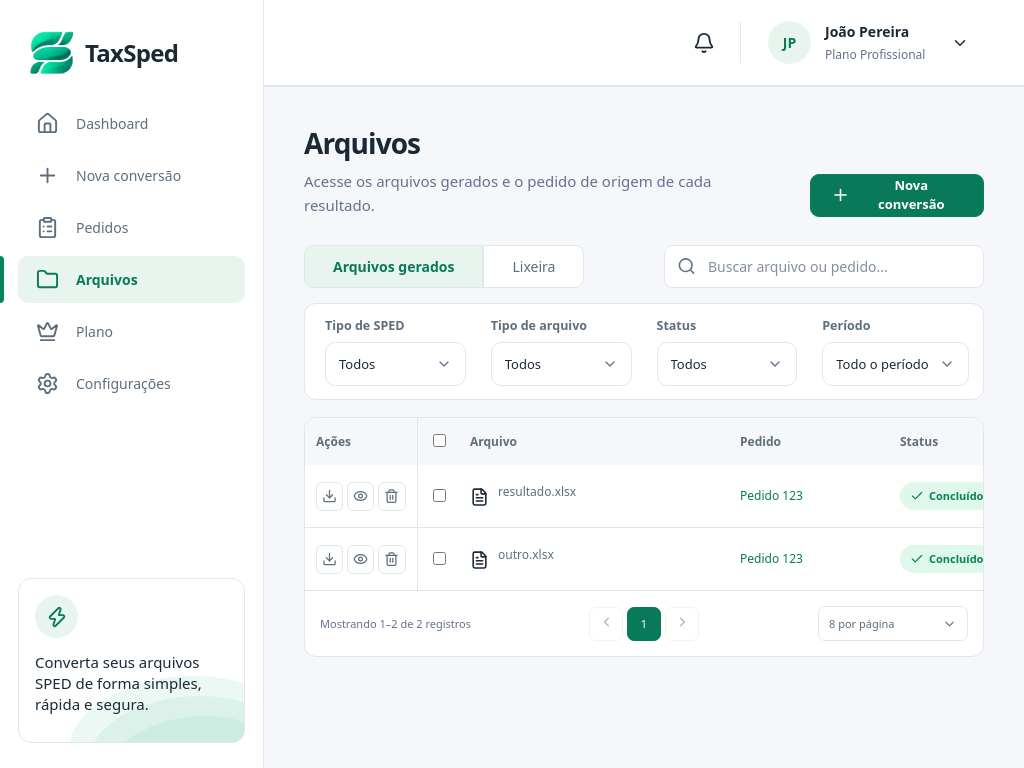
Arquivos gerados › mostra resultados ligados ao pedido e restaura sem excluir o pedido
Expected: the text "original.txt" is not shown
Click the button "Pedido 123" in the row of "resultado.xlsx". click: (771, 496)
box: [740,487,803,505]
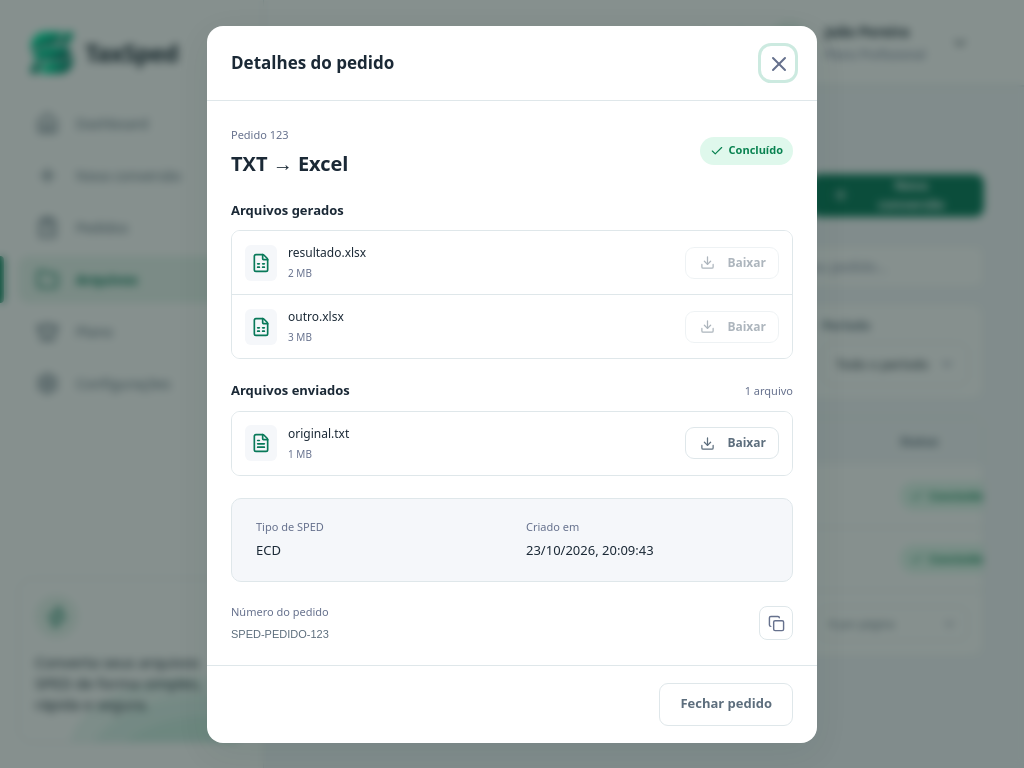
Result: the text "SPED-PEDIDO-123" is shown at [231,628,329,640]
Result: the text "original.txt" is shown at [288,424,349,442]
Click the button "Fechar pedido". click: (726, 704)
box: [659,682,793,726]
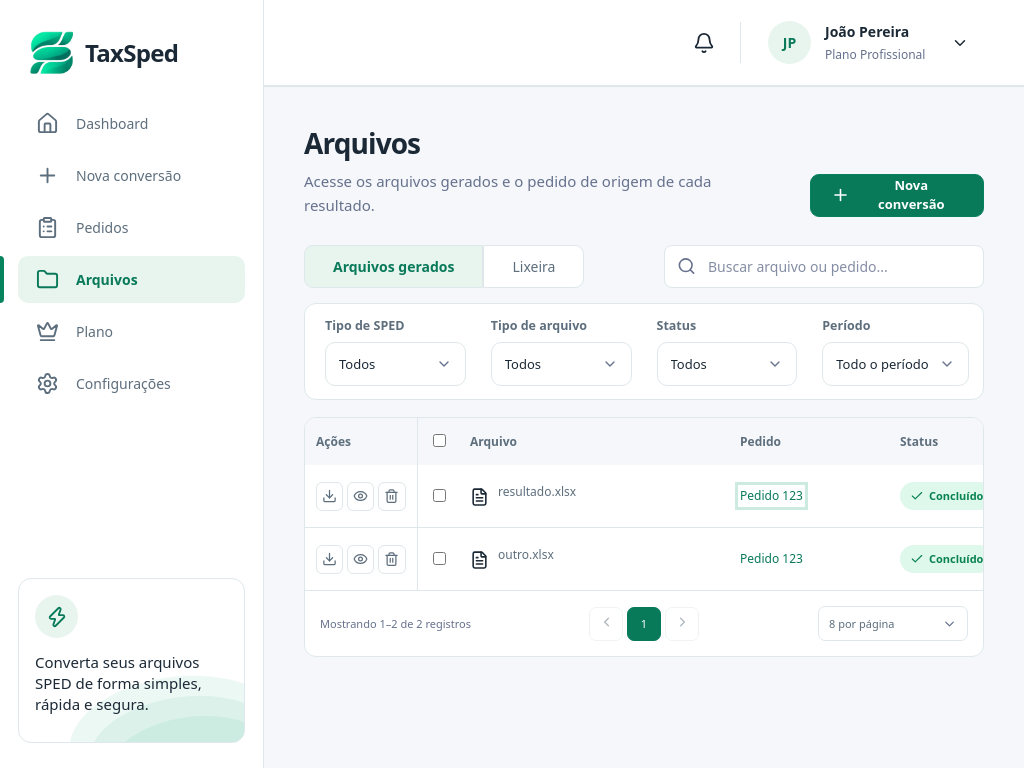
Click the button named "Mover para lixeira" next to "resultado.xlsx". click: (392, 496)
box: [378,482,406,511]
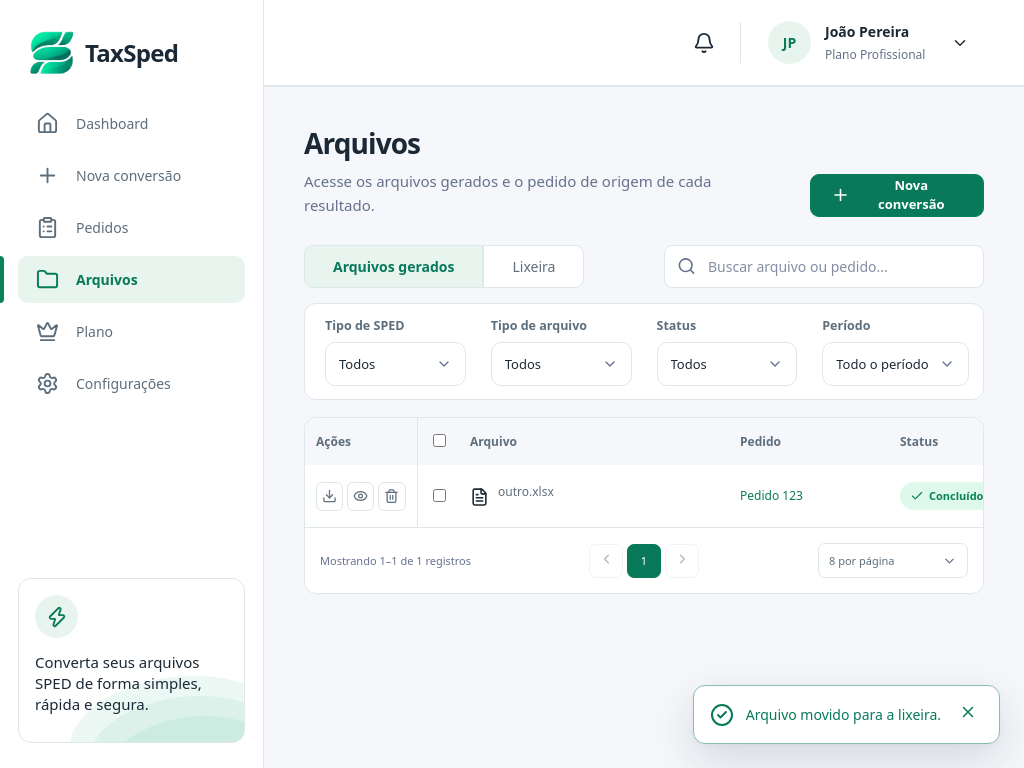
Expected: the text "outro.xlsx" is shown, [498,483,554,502]
Result: the text "resultado.xlsx" is gone
Click the button "Lixeira". click: (534, 266)
box: [484,245,584,288]
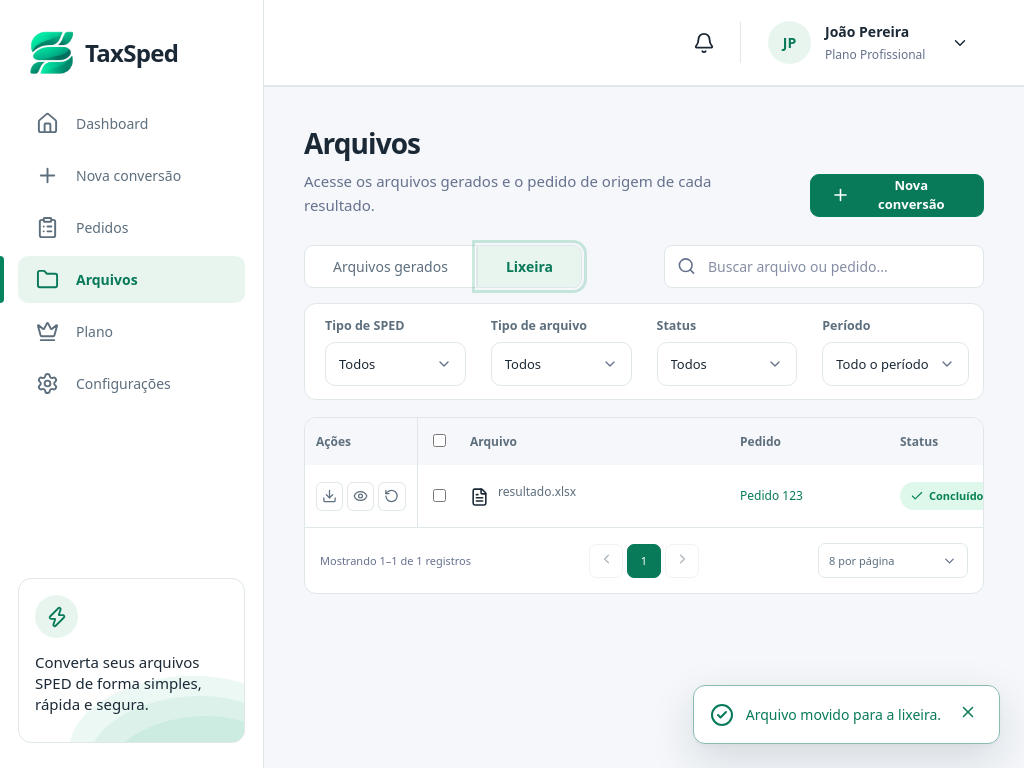
Click the button named "Restaurar arquivo". click: (392, 496)
box: [378,482,406,511]
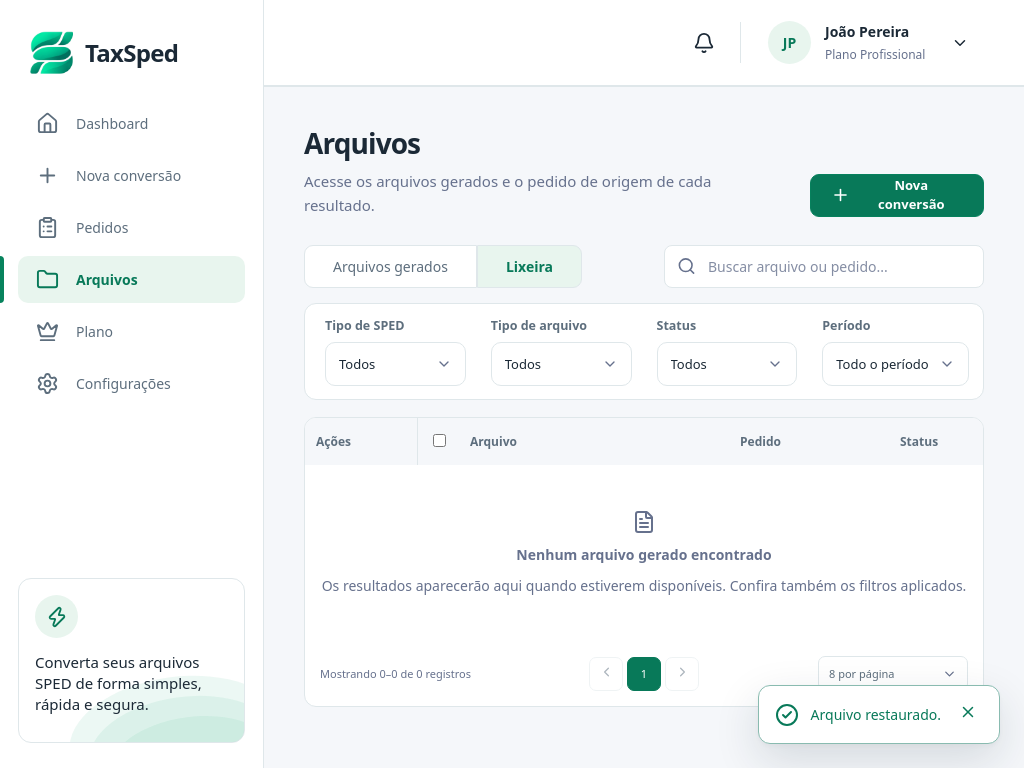
Click the button "Arquivos gerados". click: (390, 266)
box: [304,245,477,288]
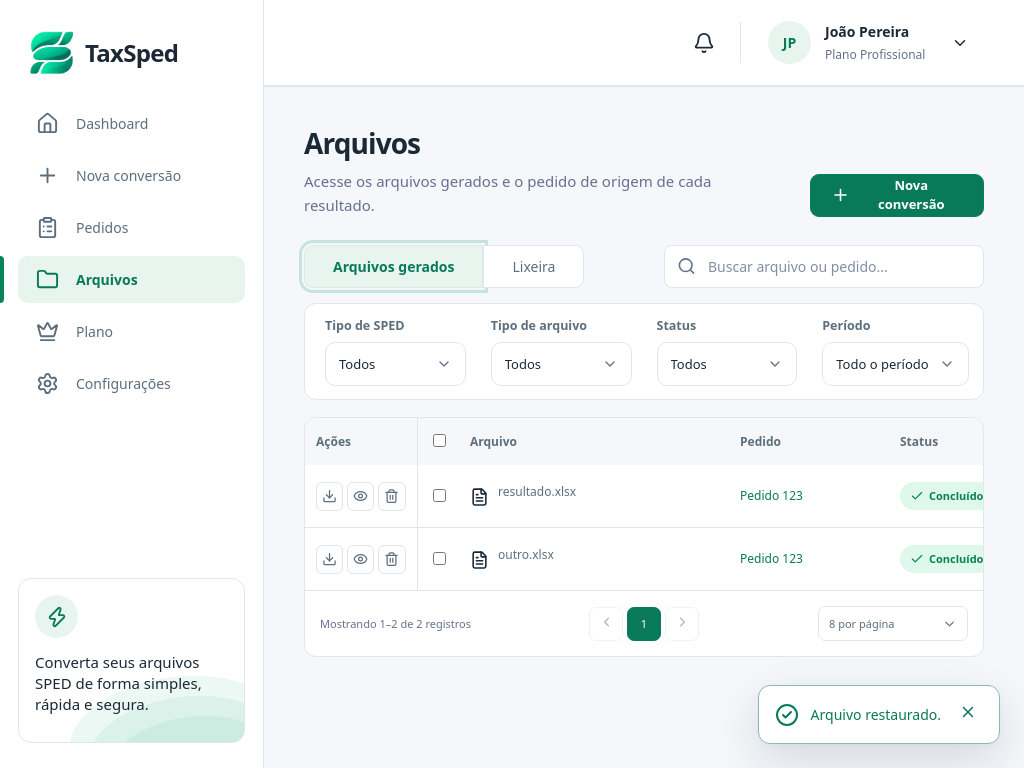
Result: the text "resultado.xlsx" is shown at [498,483,576,502]
